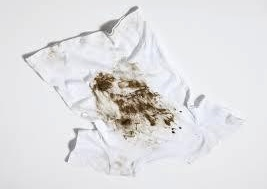earth: (112, 93, 159, 126), (161, 109, 177, 133), (120, 80, 147, 91), (94, 76, 113, 90)
